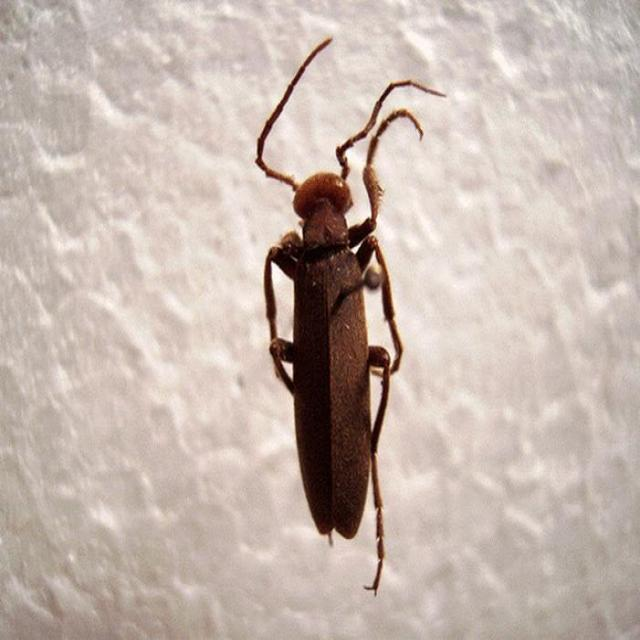BlisterBeetle-Adult-: (234, 22, 441, 604)
